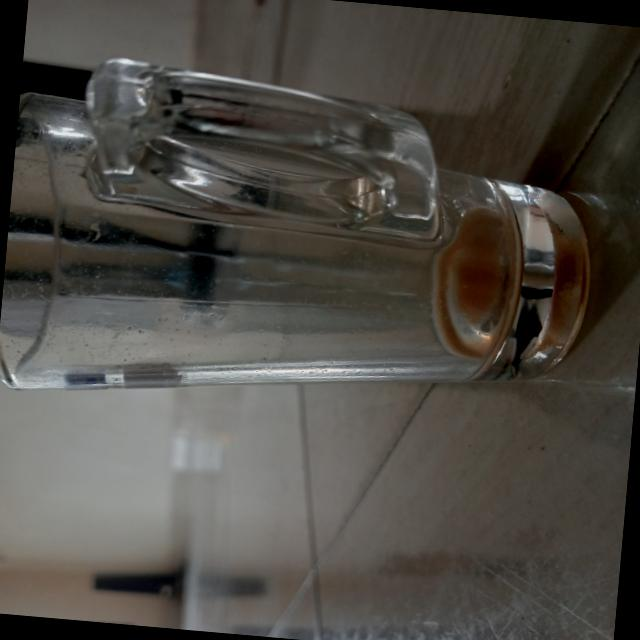glass-VX4N: (0, 49, 611, 439)
